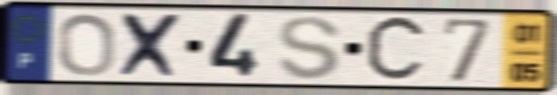4: (205, 11, 267, 83)
7: (441, 16, 494, 85)
C: (363, 12, 431, 87)
O: (56, 12, 119, 78)
S: (275, 14, 344, 83)
X: (116, 11, 188, 81)
